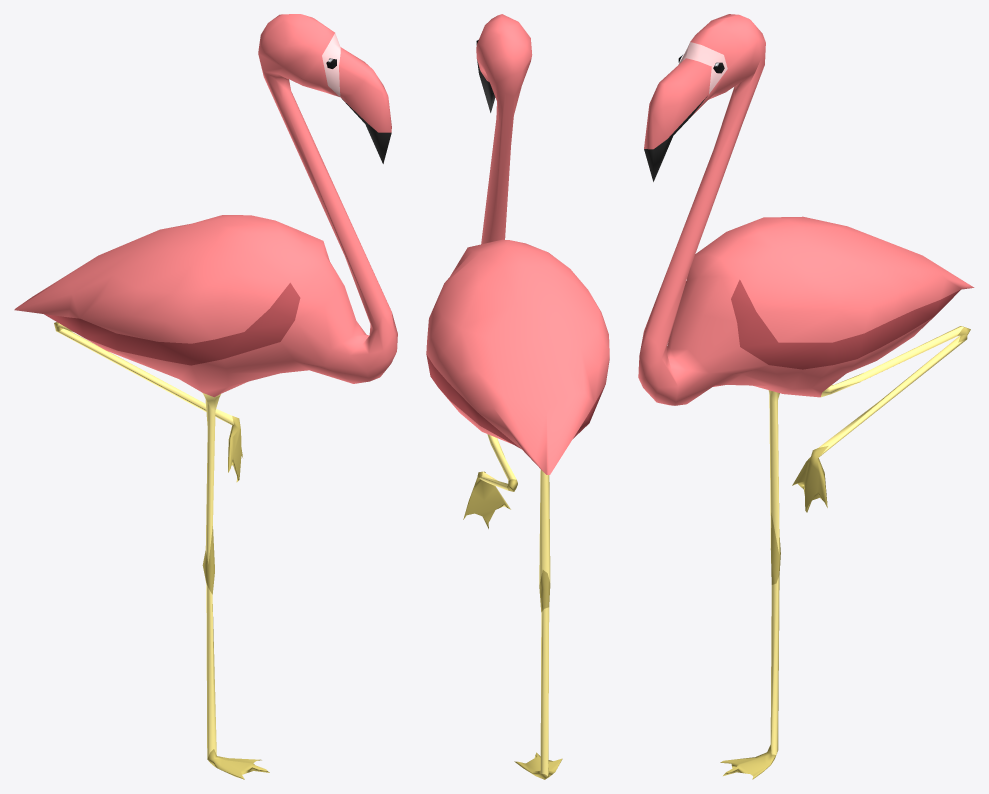
Rendered from c102095a-70e7-4643-bf83-abff35fa22dd.glb.
3 renders of one model, left to right at view 1: azimuth 30°, elevation 25°; view 2: azimuth 150°, elevation 25°; view 3: azimuth 270°, elevation 25°, orthographic. The views are drawn at different scales.
Parts seen in each view (by area): view 1: Flamingo01; view 2: Flamingo01; view 3: Flamingo01.
Boxes of the visible parts, x1,y1,x2,y2 form: Flamingo01: (14, 14, 397, 779); Flamingo01: (426, 14, 609, 779); Flamingo01: (638, 14, 974, 779).
Size of what is drawn, in the model's own units: 0.6276 by 1.97 by 0.7738.
1 material, 1 textured.
